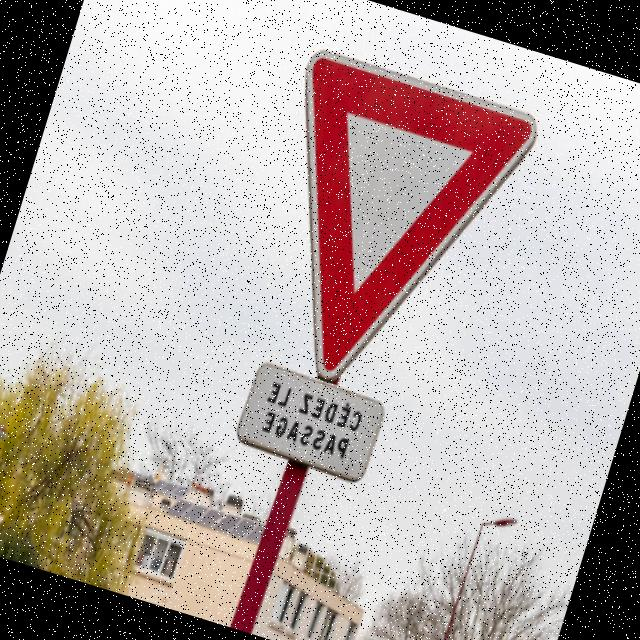give_way: (209, 26, 554, 428)
